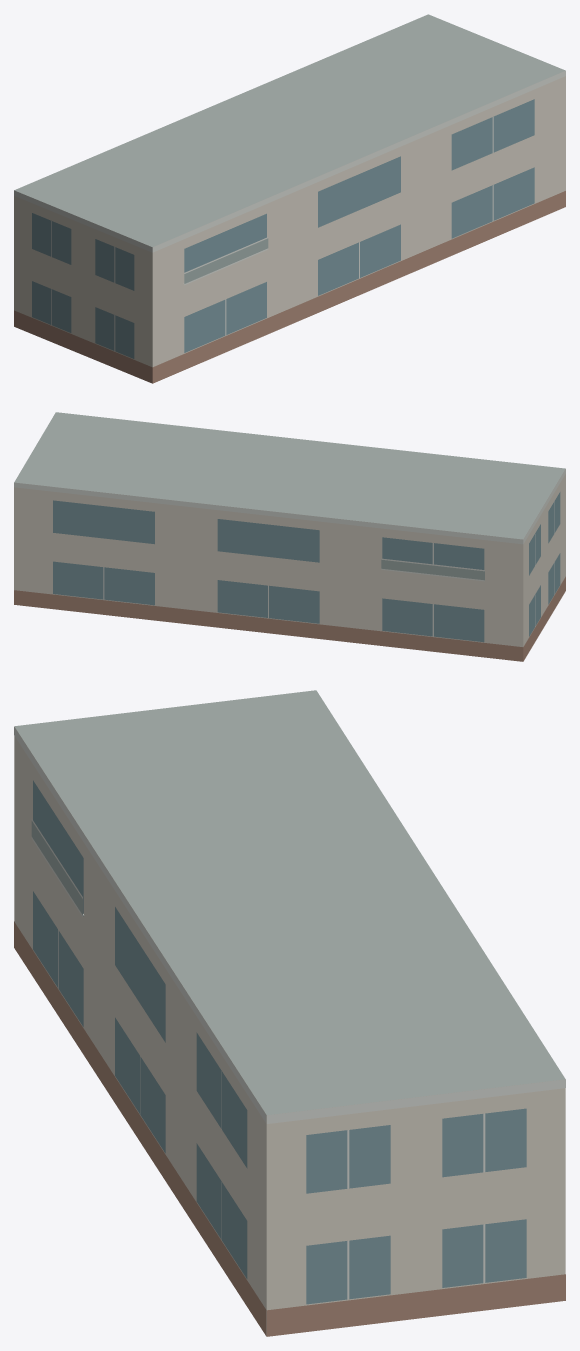
The model's file is survey-upis-32525106.glb.
3 views of the same model, one above another, from view 1: azimuth 30°, elevation 25°; view 2: azimuth 150°, elevation 25°; view 3: azimuth 270°, elevation 25° (orthographic). The views are drawn at different scales.
Parts seen in each view (by area): view 1: survey-upis-32525106.tmp; view 2: survey-upis-32525106.tmp; view 3: survey-upis-32525106.tmp.
Part boxes in pixels (x1=…): survey-upis-32525106.tmp: x1=14, y1=14, x2=565, y2=383; survey-upis-32525106.tmp: x1=14, y1=412, x2=565, y2=661; survey-upis-32525106.tmp: x1=14, y1=690, x2=565, y2=1336.
Size of the model in its own units: 25.13 by 6.1 by 13.78.
